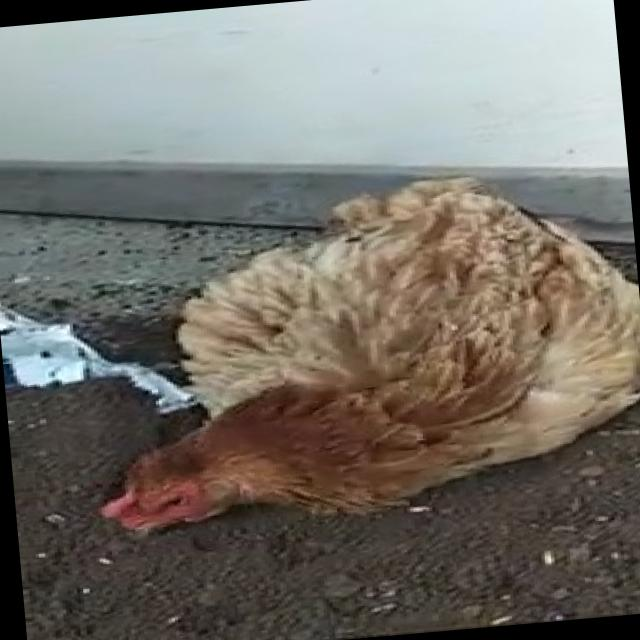stand bath: (43, 154, 640, 559)
